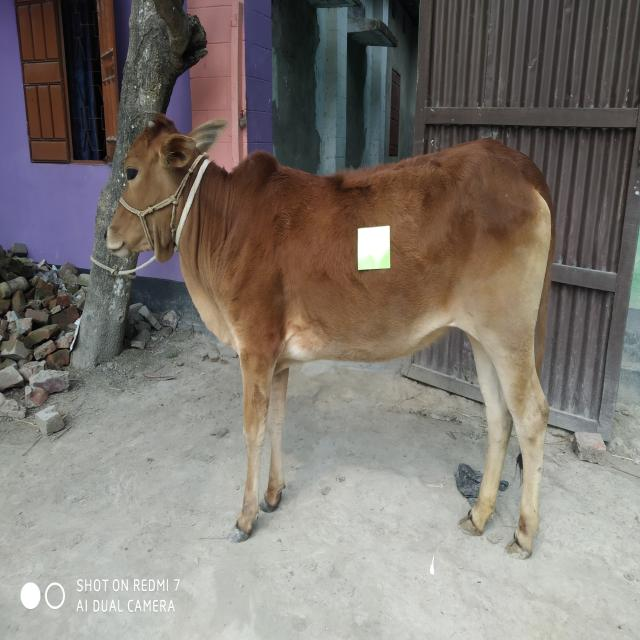badan_sapi: (240, 176, 536, 362)
sapi: (101, 105, 567, 568)
